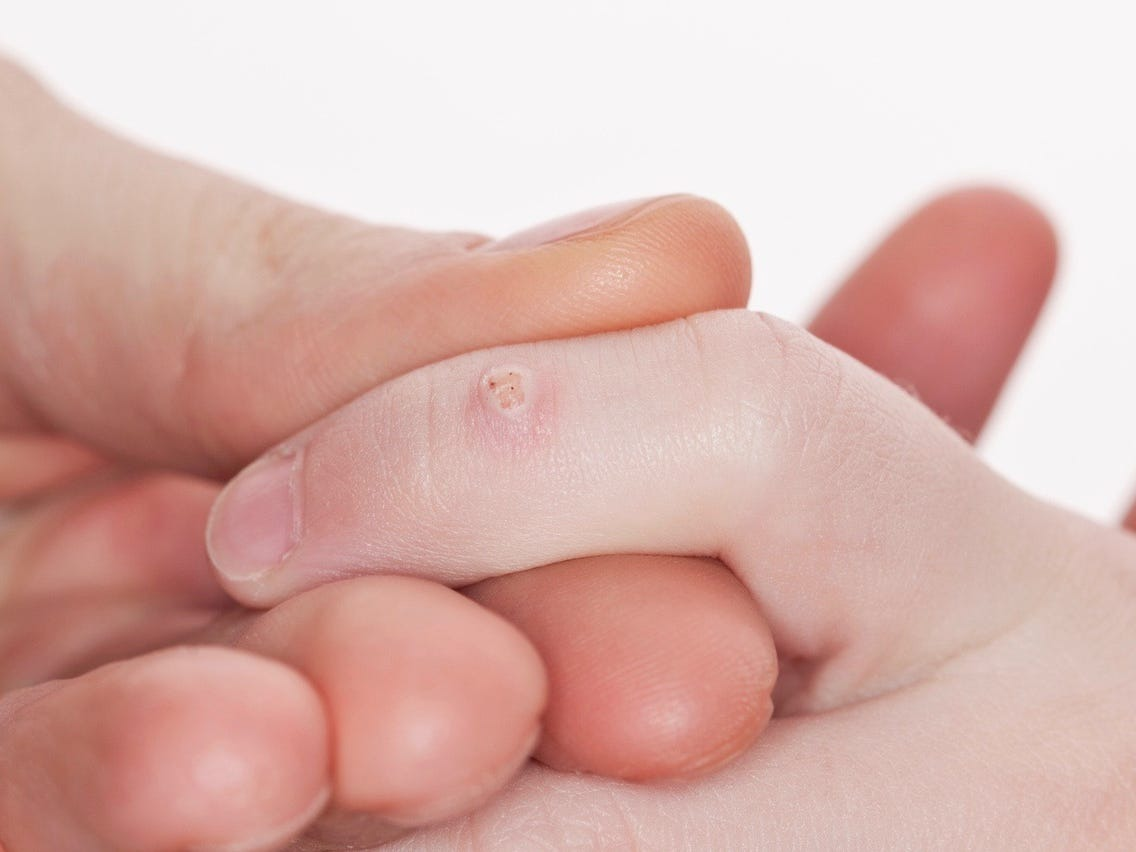Warts: (450, 349, 573, 448)
